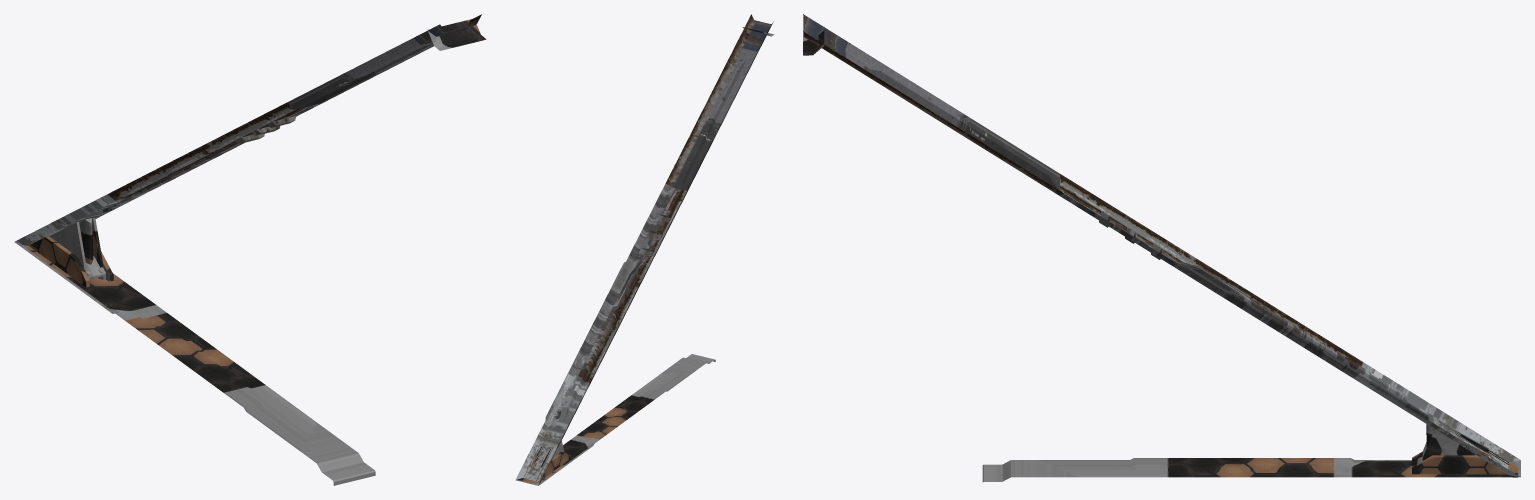
The model's file is env_Hallway_BaseEdge.FBX.
3 renders of one model, left to right at view 1: azimuth 30°, elevation 25°; view 2: azimuth 150°, elevation 25°; view 3: azimuth 270°, elevation 25°, orthographic. The views are drawn at different scales.
Parts seen in each view (by area): view 1: env_Hallway_BaseEdge; view 2: env_Hallway_BaseEdge; view 3: env_Hallway_BaseEdge.
Boxes of the visible parts, bbox=[...] form: env_Hallway_BaseEdge: bbox=[14, 14, 486, 485]; env_Hallway_BaseEdge: bbox=[515, 14, 774, 485]; env_Hallway_BaseEdge: bbox=[803, 14, 1520, 482].
Size of the model in its own units: 111 by 1223 by 1750.
